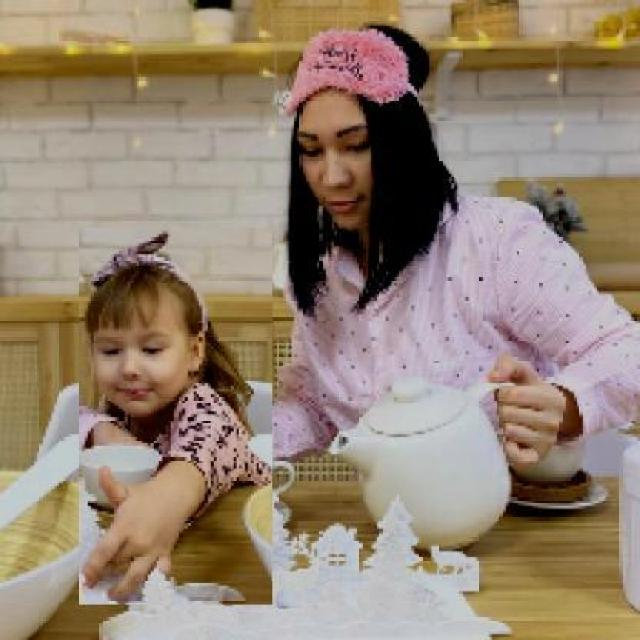child: (79, 228, 272, 606)
